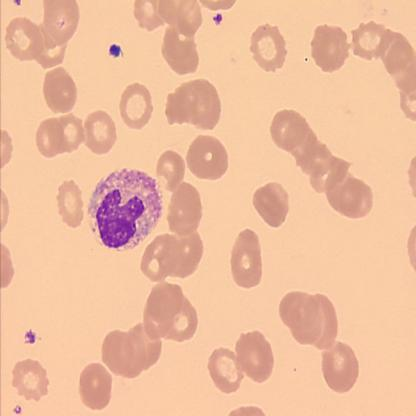Metamyelocyte: (85, 164, 164, 254)
